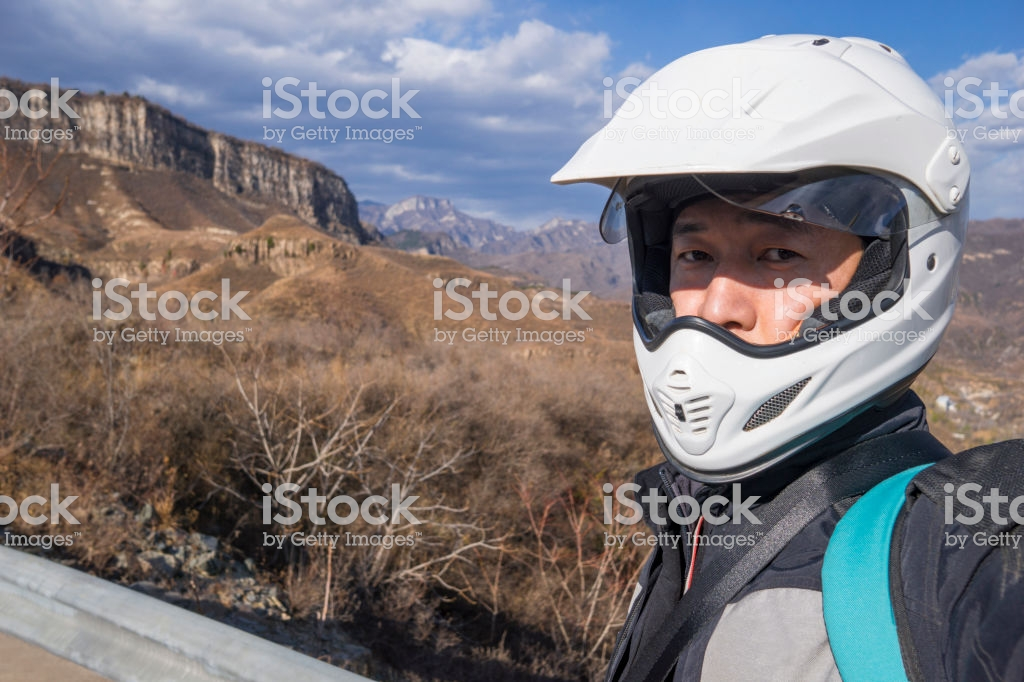helmet: (575, 32, 954, 477)
